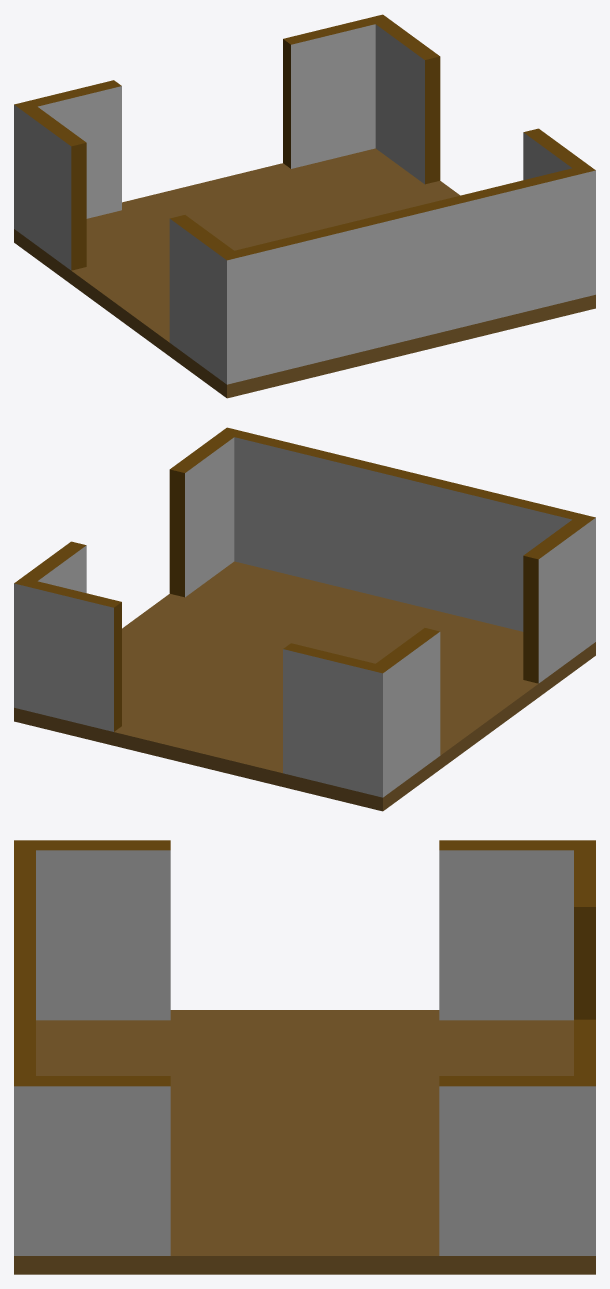
The model's file is floor_section-02.fbx.
3 renders of one model, top to bottom at view 1: azimuth 30°, elevation 25°; view 2: azimuth 150°, elevation 25°; view 3: azimuth 270°, elevation 25°, orthographic. The views are drawn at different scales.
Visible parts, largest first — view 1: Plane.003; view 2: Plane.003; view 3: Plane.003.
Part boxes in pixels (x1,y1,x2,y2): Plane.003: [14, 14, 595, 398]; Plane.003: [14, 427, 595, 811]; Plane.003: [14, 840, 595, 1274].
Size of the model in its own units: 600 by 215 by 600.
